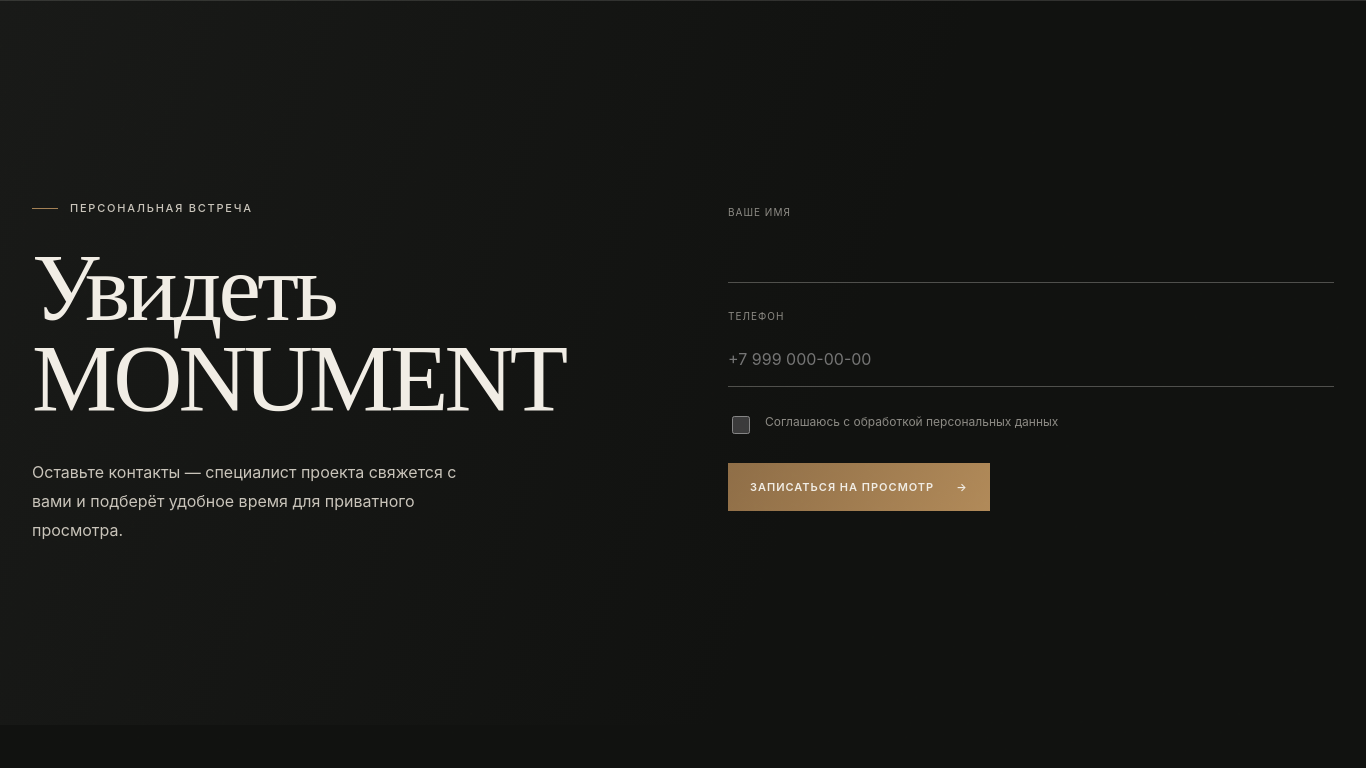
it: interactive MONUMENT components › submits a valid viewing request locally
Type "Иван" into the field labelled "Ваше имя".
click(1031, 256); type("Иван")  # box [728, 229, 1334, 283]
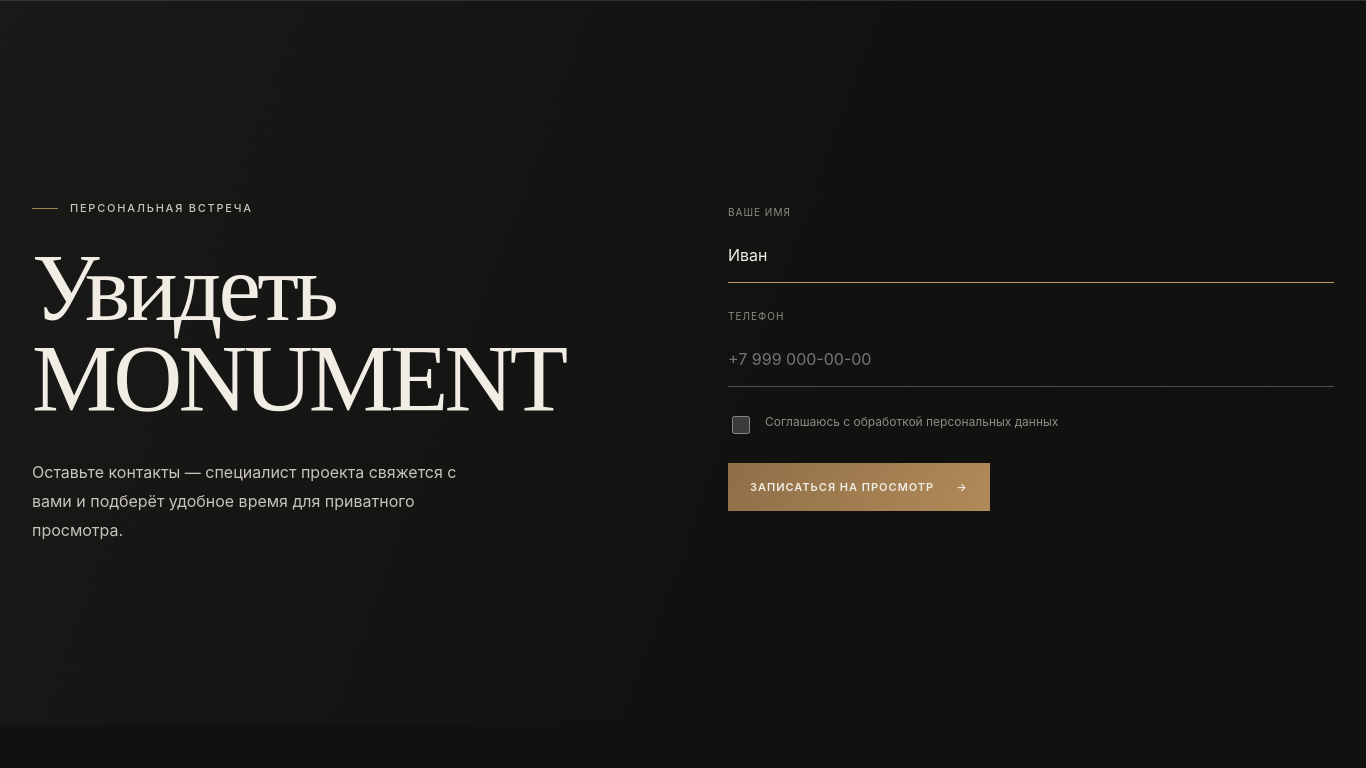
Type "+7 999 123-45-67" into the field labelled "Телефон".
click(1031, 360); type("+7 999 123-45-67")  # box [728, 333, 1334, 387]
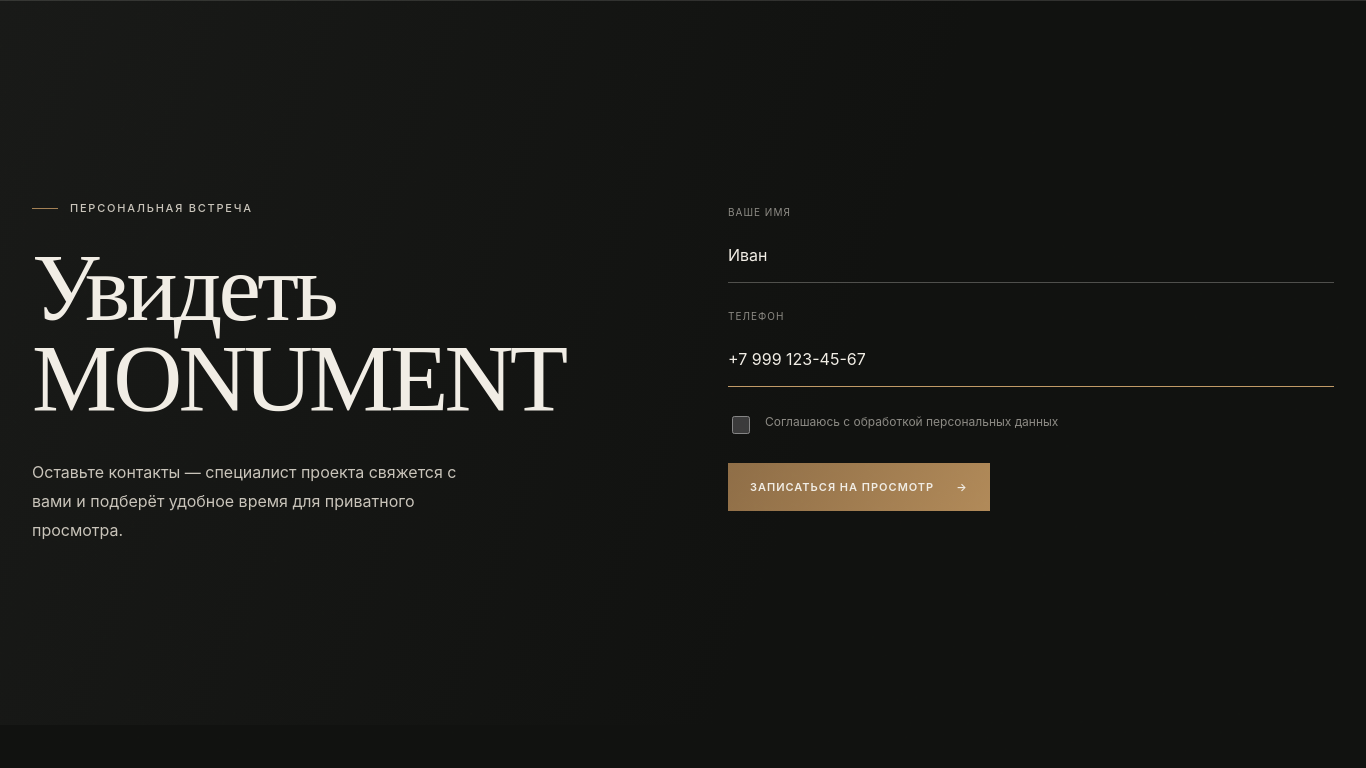
Click the checkbox labelled "Соглашаюсь с обработкой персональных данных".
click(741, 425)  # box [732, 416, 750, 434]
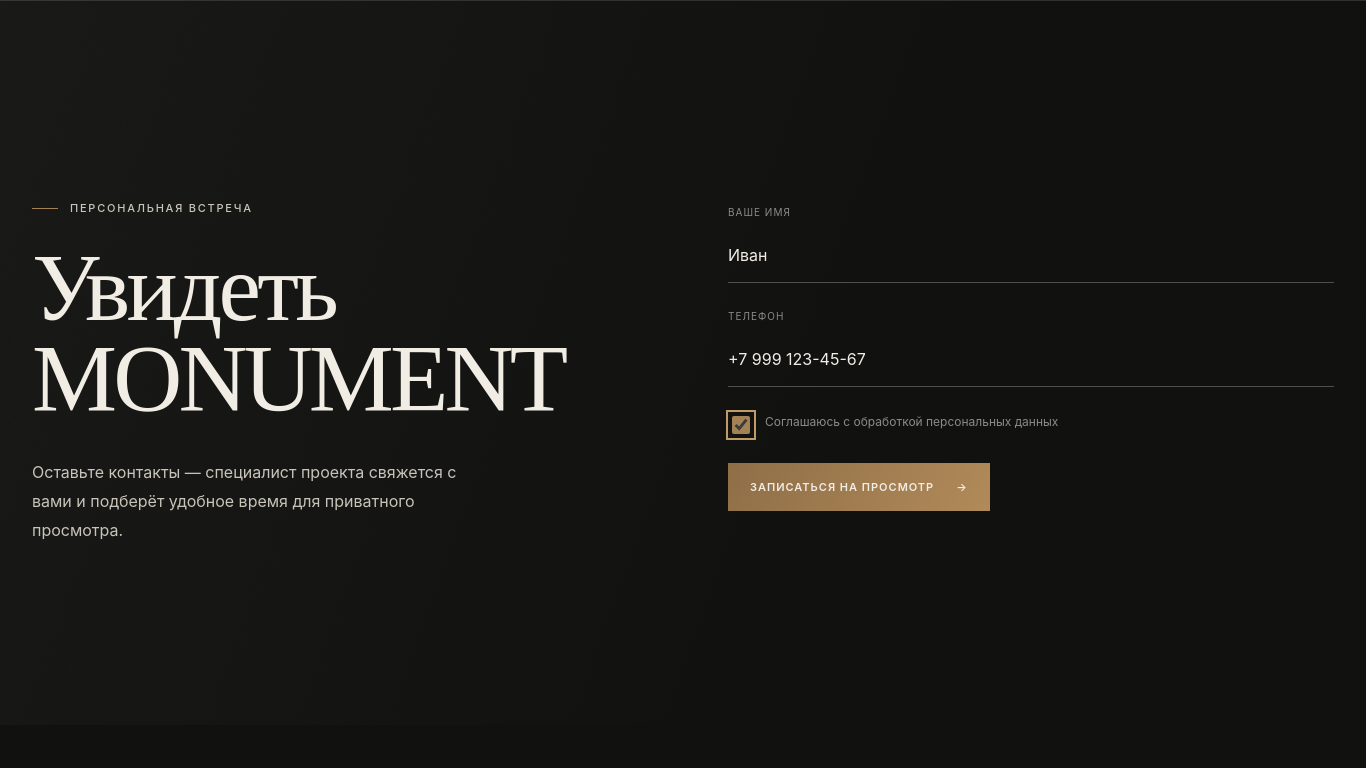
Click the button "Записаться на просмотр →".
click(859, 487)  # box [728, 463, 990, 511]
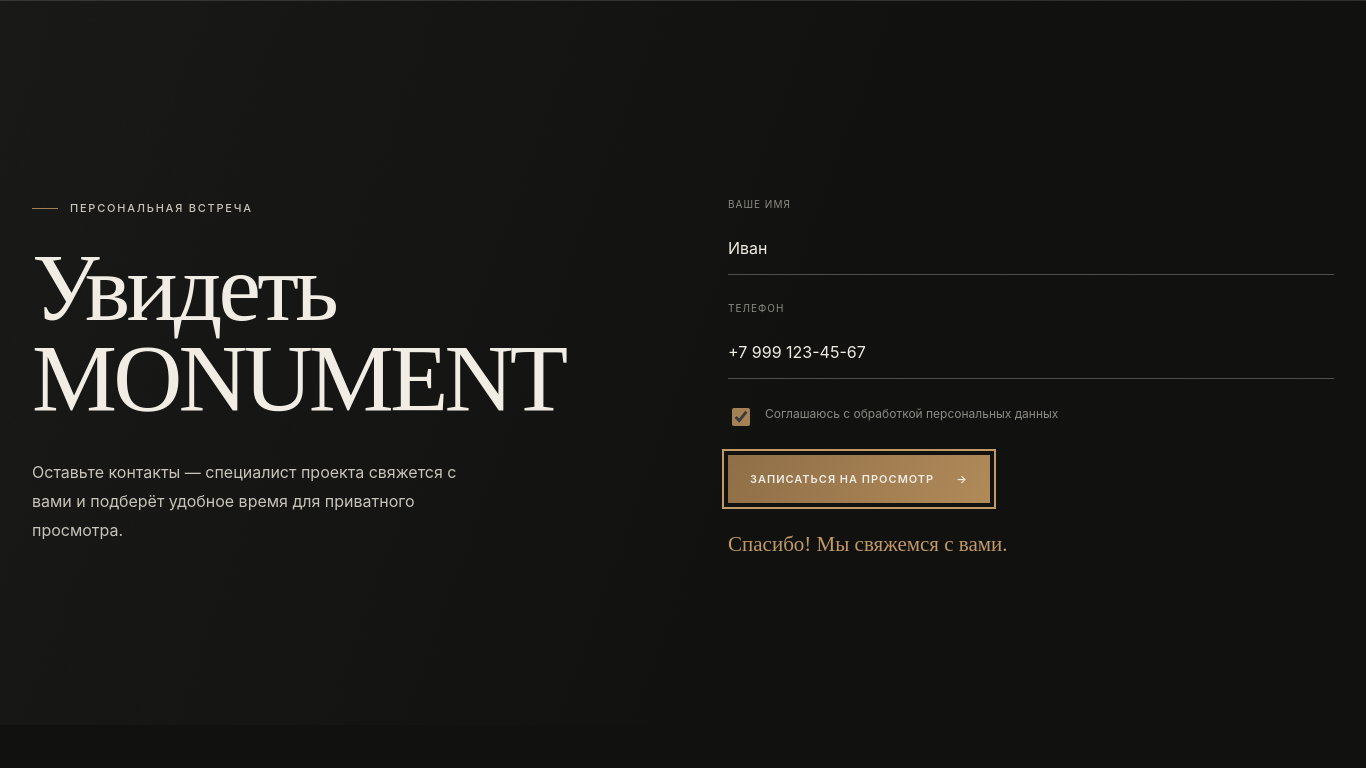
Now the text "Спасибо! Мы свяжемся с вами." is shown, box [728, 532, 1008, 556]
